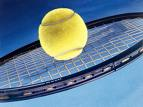tennis ball: (37, 7, 90, 62)
